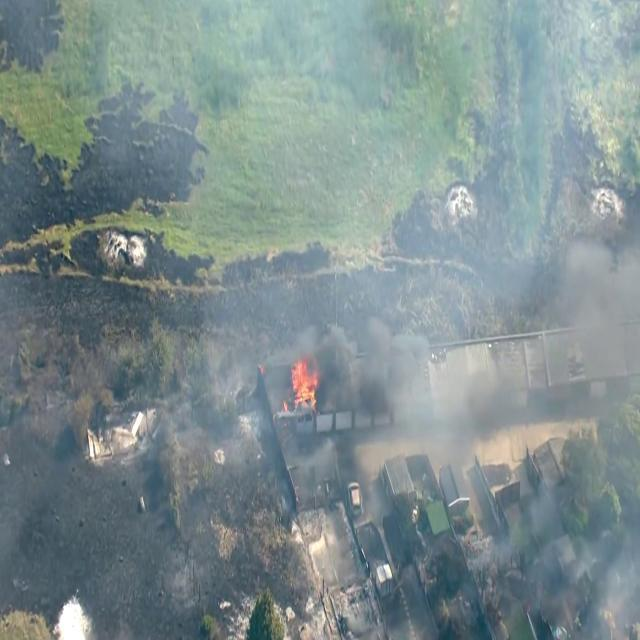Fire: (286, 365, 325, 416)
Smoke: (562, 244, 640, 372), (313, 328, 406, 405)
